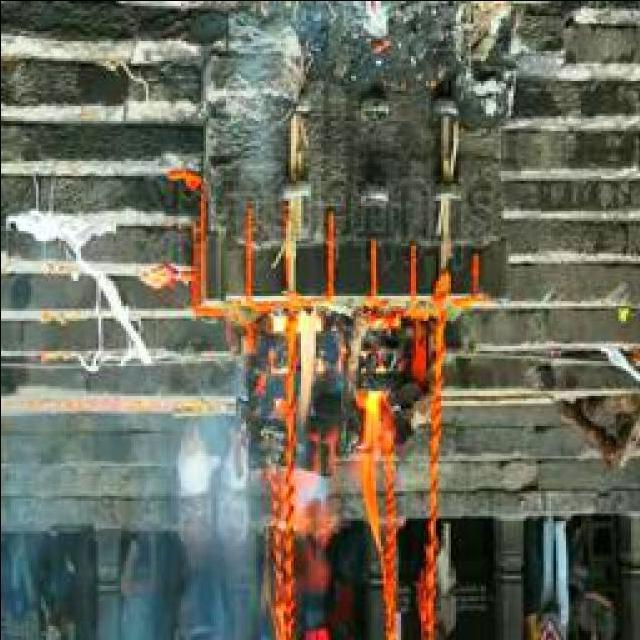Fire: (276, 299, 398, 537)
